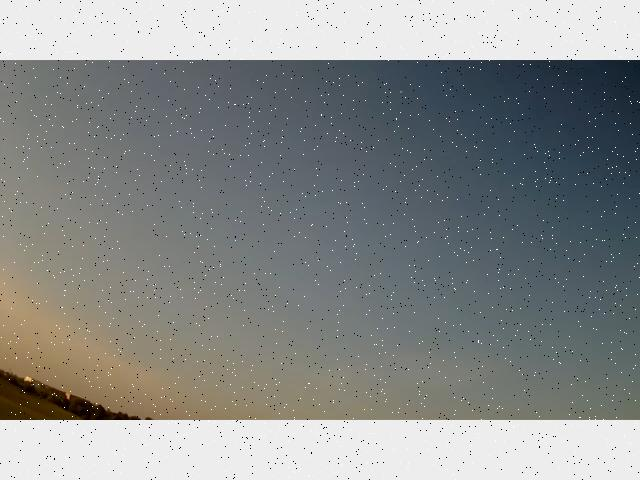Anti-Drone: (310, 253, 326, 266)
